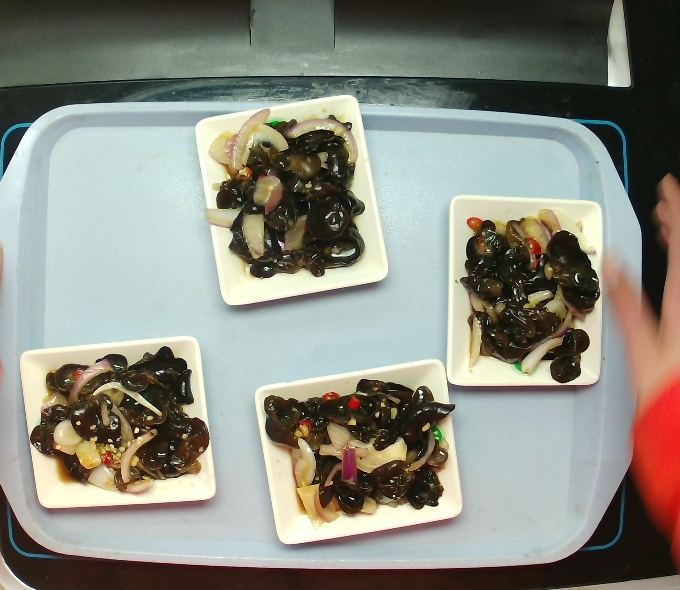wcq-LiangBanMuEr: (258, 365, 463, 534), (21, 342, 221, 502), (198, 106, 375, 283), (459, 211, 604, 375)
